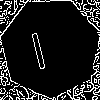I: (25, 22, 49, 70)
